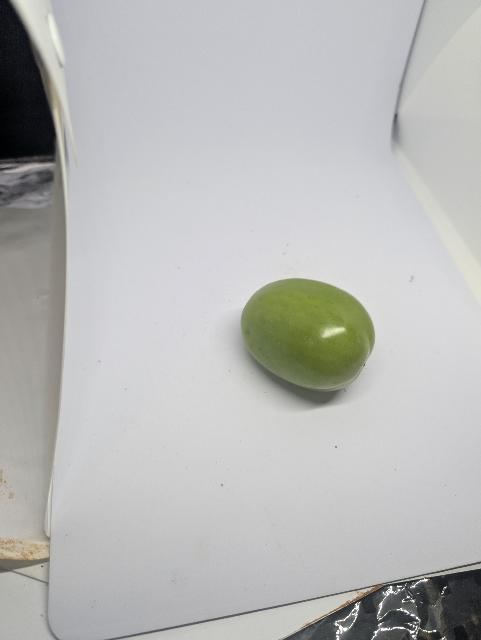green: (222, 267, 387, 410)
